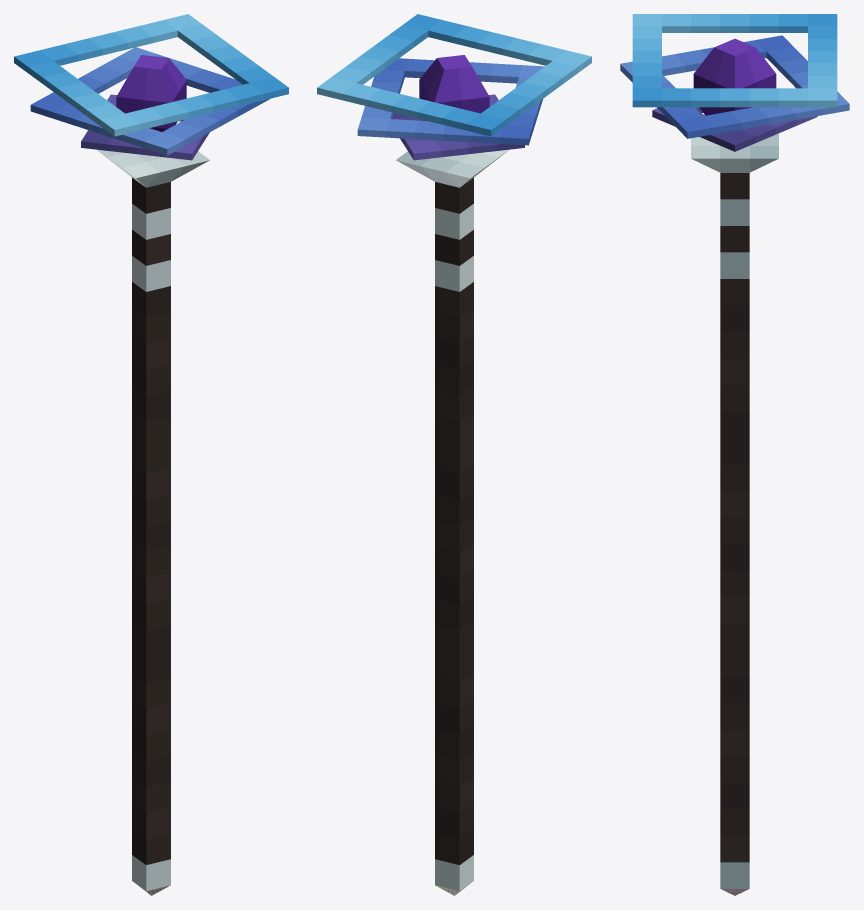
Rendered from staff_cerublossom.obj.
3 renders of one model, left to right at view 1: azimuth 30°, elevation 25°; view 2: azimuth 150°, elevation 25°; view 3: azimuth 270°, elevation 25°, orthographic.
Visible parts, largest first — view 1: STAFF_VAR18_Cube.117; view 2: STAFF_VAR18_Cube.117; view 3: STAFF_VAR18_Cube.117.
Part boxes in pixels (x1,y1,x2,y2): STAFF_VAR18_Cube.117: [14, 14, 288, 895]; STAFF_VAR18_Cube.117: [317, 14, 591, 895]; STAFF_VAR18_Cube.117: [620, 14, 849, 895].
Bounding box in the file's own units: 0.49 × 2 × 0.49.
